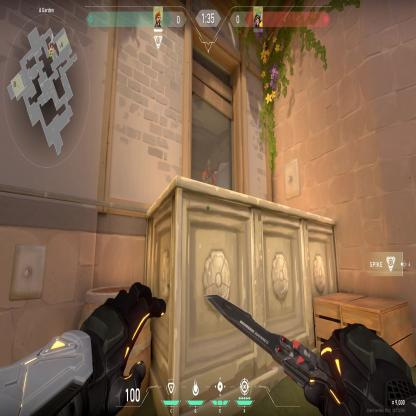enemy: (201, 156, 217, 190)
